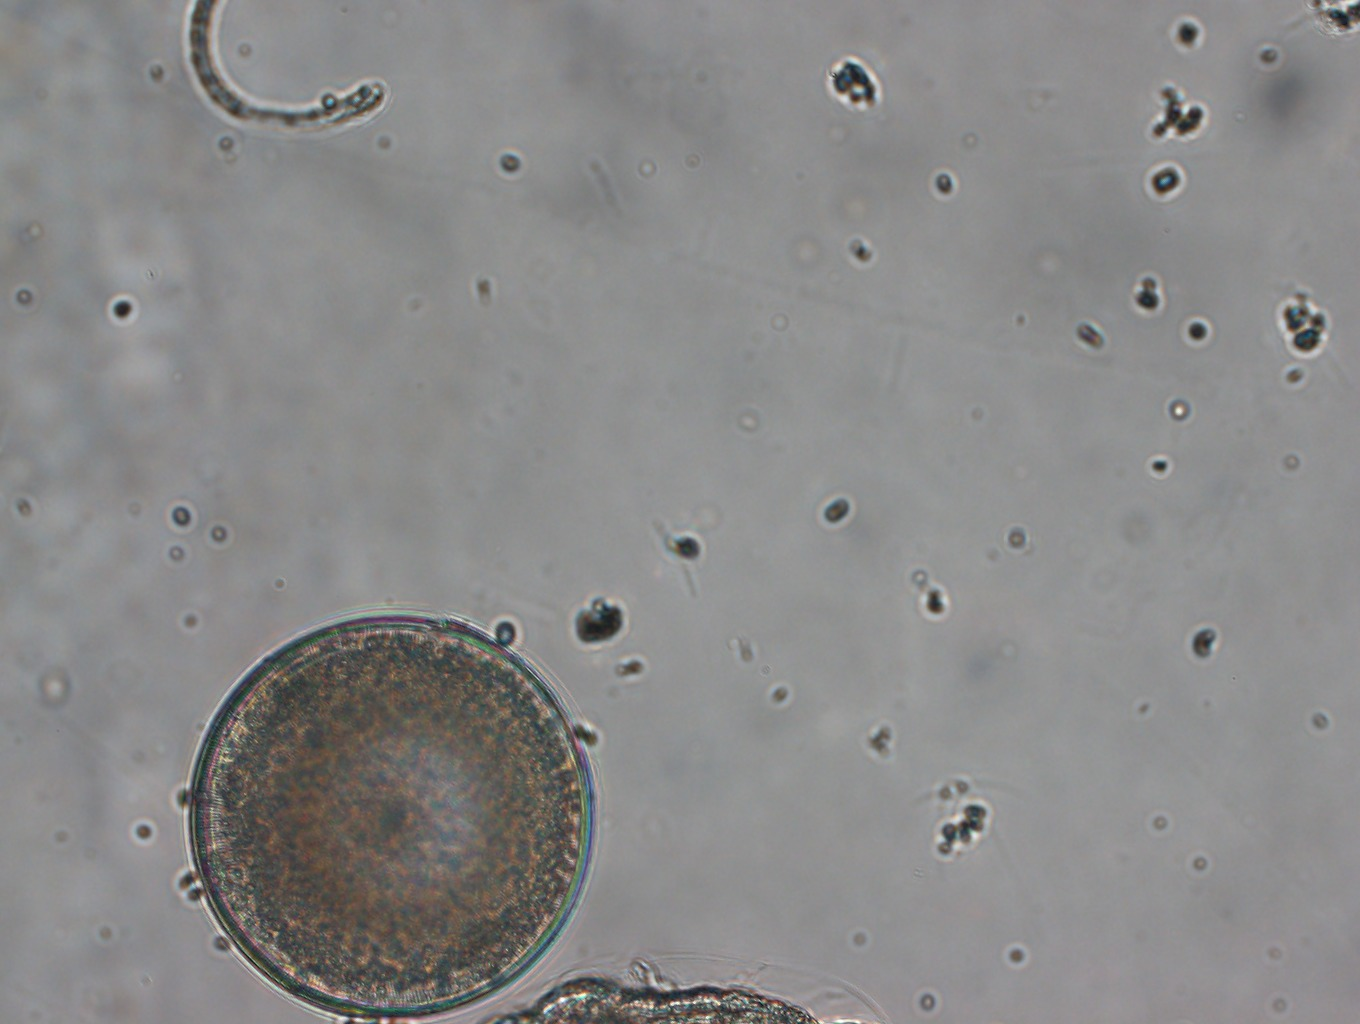coscinodiscus: (173, 603, 599, 1024)
